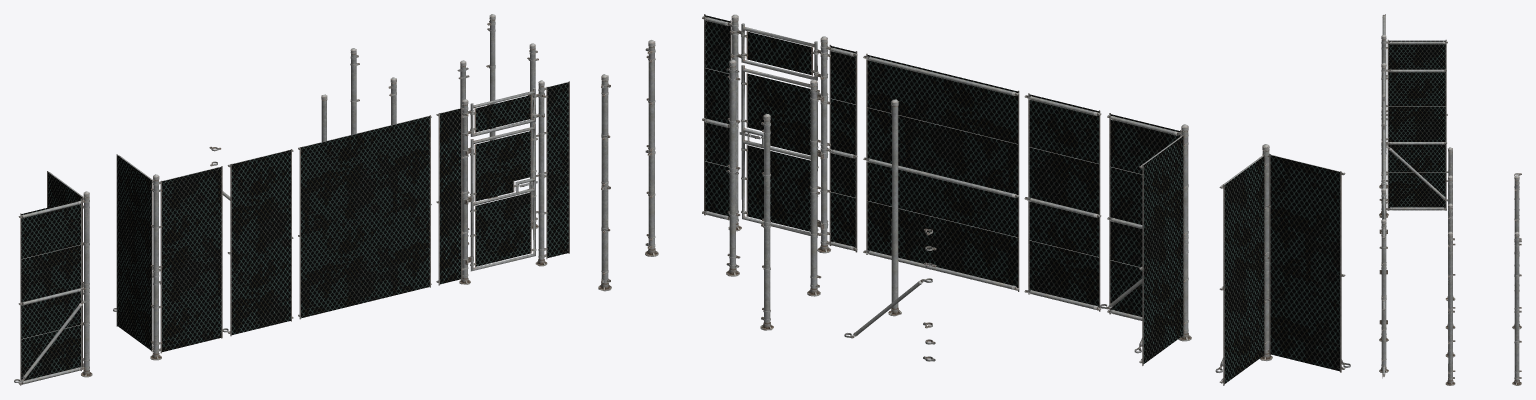
Rendered from modular_chainlink_fence.glb.
3 views of the same model, side by side, from view 1: azimuth 30°, elevation 25°; view 2: azimuth 150°, elevation 25°; view 3: azimuth 270°, elevation 25° (orthographic). The views are drawn at different scales.
Parts seen in each view (by area): view 1: modular_chainlink_fence_double, modular_chainlink_fence_corner_outer, modular_chainlink_fence_door_frame, modular_chainlink_fence_corner_inner, modular_chainlink_fence, modular_chainlink_fence_door_gate, modular_chainlink_fence_start_01_corner_01, modular_chainlink_fence_start_01_corner_02, modular_chainlink_fence_end_02; view 2: modular_chainlink_fence_double, modular_chainlink_fence_corner_inner, modular_chainlink_fence_corner_outer, modular_chainlink_fence_door_frame, modular_chainlink_fence, modular_chainlink_fence_door_gate, modular_chainlink_fence_end_01, modular_chainlink_fence_start_01_corner_02, modular_chainlink_post_middle, modular_chainlink_fence_start_01_corner_01, modular_chainlink_fence_end_02, modular_chainlink_fence_post; view 3: modular_chainlink_fence_corner_outer, modular_chainlink_fence_corner_inner, modular_chainlink_fence_door_frame, modular_chainlink_fence_start_01_corner_02, modular_chainlink_fence_start_01_corner_01, modular_chainlink_fence_end_02, modular_chainlink_post_middle, modular_chainlink_fence_double, modular_chainlink_fence_post, modular_chainlink_fence_end_01.
Part boxes in pixels (x1,y1,x2,y2): modular_chainlink_fence_double: [298, 115, 431, 319]; modular_chainlink_fence_corner_outer: [113, 154, 228, 360]; modular_chainlink_fence_door_frame: [436, 80, 569, 285]; modular_chainlink_fence_corner_inner: [14, 171, 92, 385]; modular_chainlink_fence: [227, 149, 293, 336]; modular_chainlink_fence_door_gate: [470, 123, 536, 271]; modular_chainlink_fence_start_01_corner_01: [527, 43, 538, 229]; modular_chainlink_fence_start_01_corner_02: [486, 14, 497, 198]; modular_chainlink_fence_end_02: [350, 48, 359, 134]; modular_chainlink_fence_double: [863, 53, 1019, 291]; modular_chainlink_fence_corner_inner: [1215, 144, 1350, 385]; modular_chainlink_fence_corner_outer: [1100, 113, 1191, 365]; modular_chainlink_fence_door_frame: [702, 14, 857, 253]; modular_chainlink_fence: [1024, 93, 1101, 311]; modular_chainlink_fence_door_gate: [741, 65, 818, 237]; modular_chainlink_fence_end_01: [807, 79, 821, 296]; modular_chainlink_fence_start_01_corner_02: [598, 74, 611, 291]; modular_chainlink_post_middle: [726, 59, 740, 276]; modular_chainlink_fence_start_01_corner_01: [645, 40, 658, 256]; modular_chainlink_fence_end_02: [760, 114, 773, 330]; modular_chainlink_fence_post: [888, 99, 901, 316]; modular_chainlink_fence_corner_outer: [1379, 63, 1447, 234]; modular_chainlink_fence_corner_inner: [1379, 14, 1448, 188]; modular_chainlink_fence_door_frame: [1379, 183, 1388, 378]; modular_chainlink_fence_start_01_corner_02: [1512, 231, 1521, 385]; modular_chainlink_fence_start_01_corner_01: [1445, 231, 1455, 385]; modular_chainlink_fence_end_02: [1512, 175, 1521, 329]; modular_chainlink_post_middle: [1445, 203, 1455, 357]; modular_chainlink_fence_double: [1382, 126, 1385, 183]; modular_chainlink_fence_post: [1445, 147, 1455, 300]; modular_chainlink_fence_end_01: [1445, 175, 1455, 329].
Bounding box in the file's own units: 8.11 × 2.52 × 2.15.
2 materials, 2 textured.
